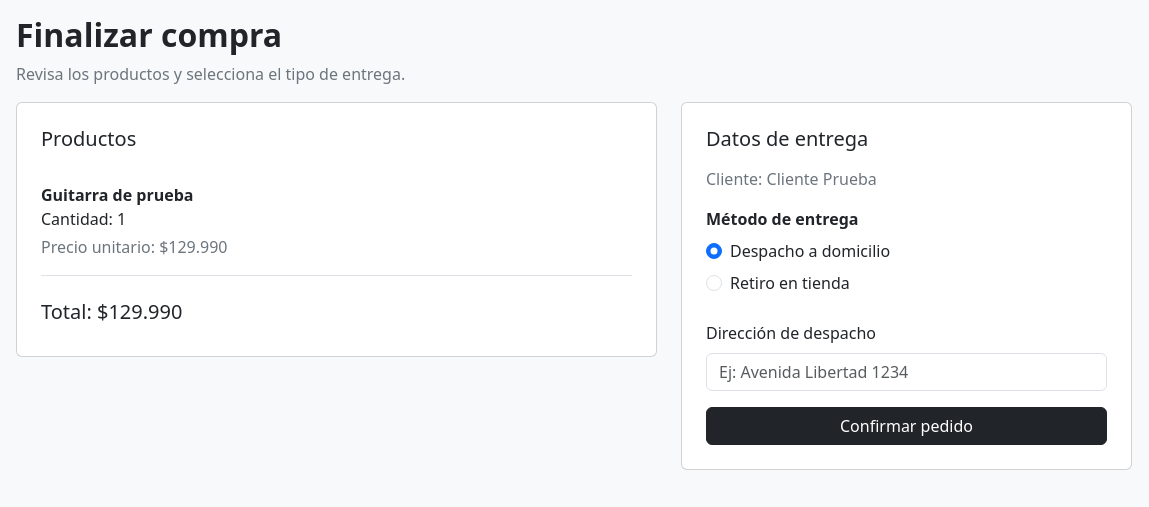
Test case: Checkout conectado a pedidos de Spring Boot › confirma un retiro con precio esperado y vacia el carrito
Expected: the button "Confirmar pedido" is enabled, [706, 407, 1107, 445]
Step 1. Click the radio button labelled "Retiro en tienda" → (714, 283), box [706, 275, 722, 291]
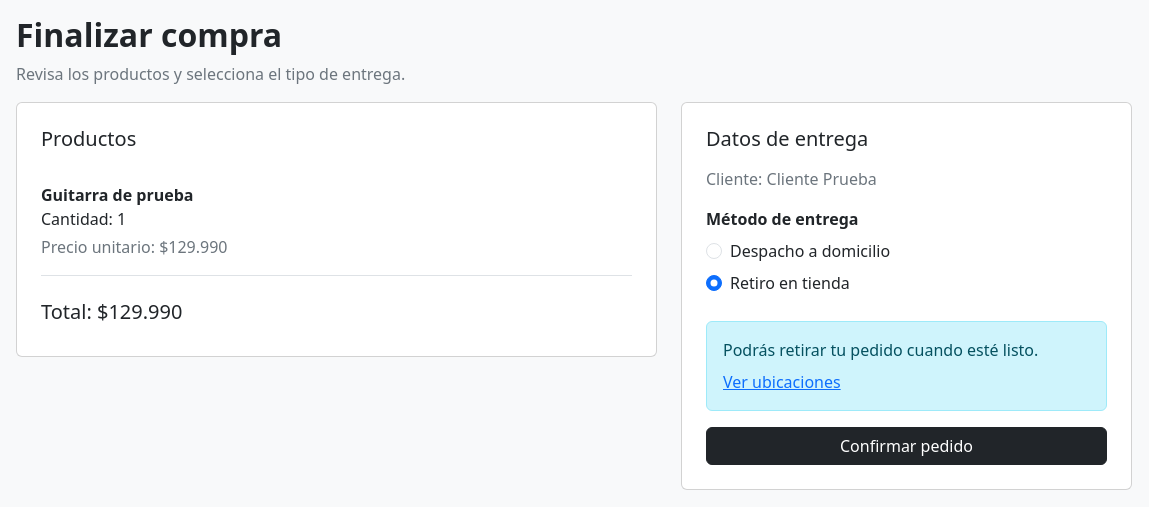
Step 2. Submit the form named "Confirmar pedido", box [681, 102, 1132, 490]
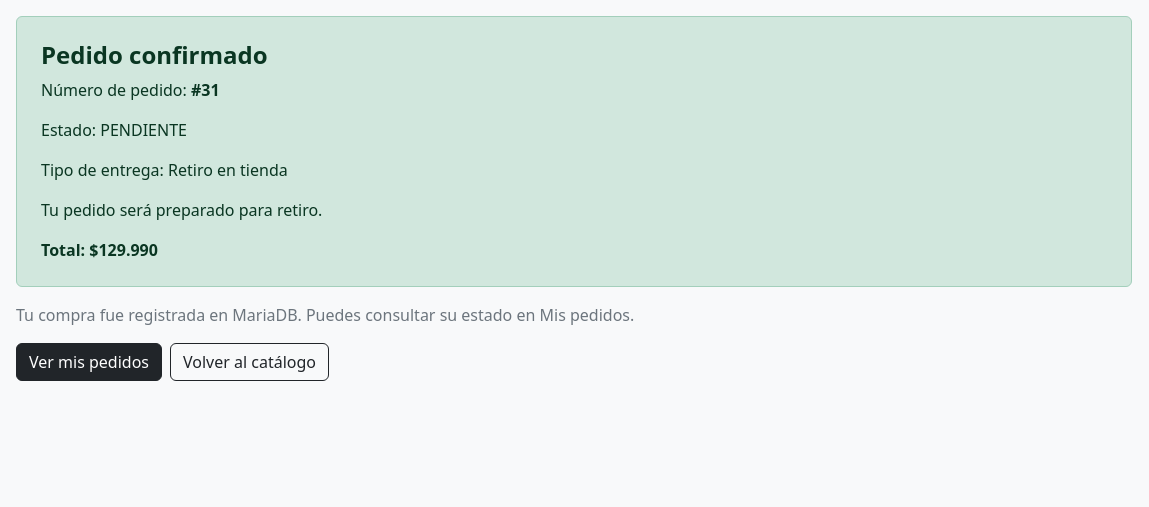
Result: the heading "Pedido confirmado" is shown at [41, 38, 268, 71]
Result: the text "Número de pedido: #31" is shown at [41, 79, 220, 101]
